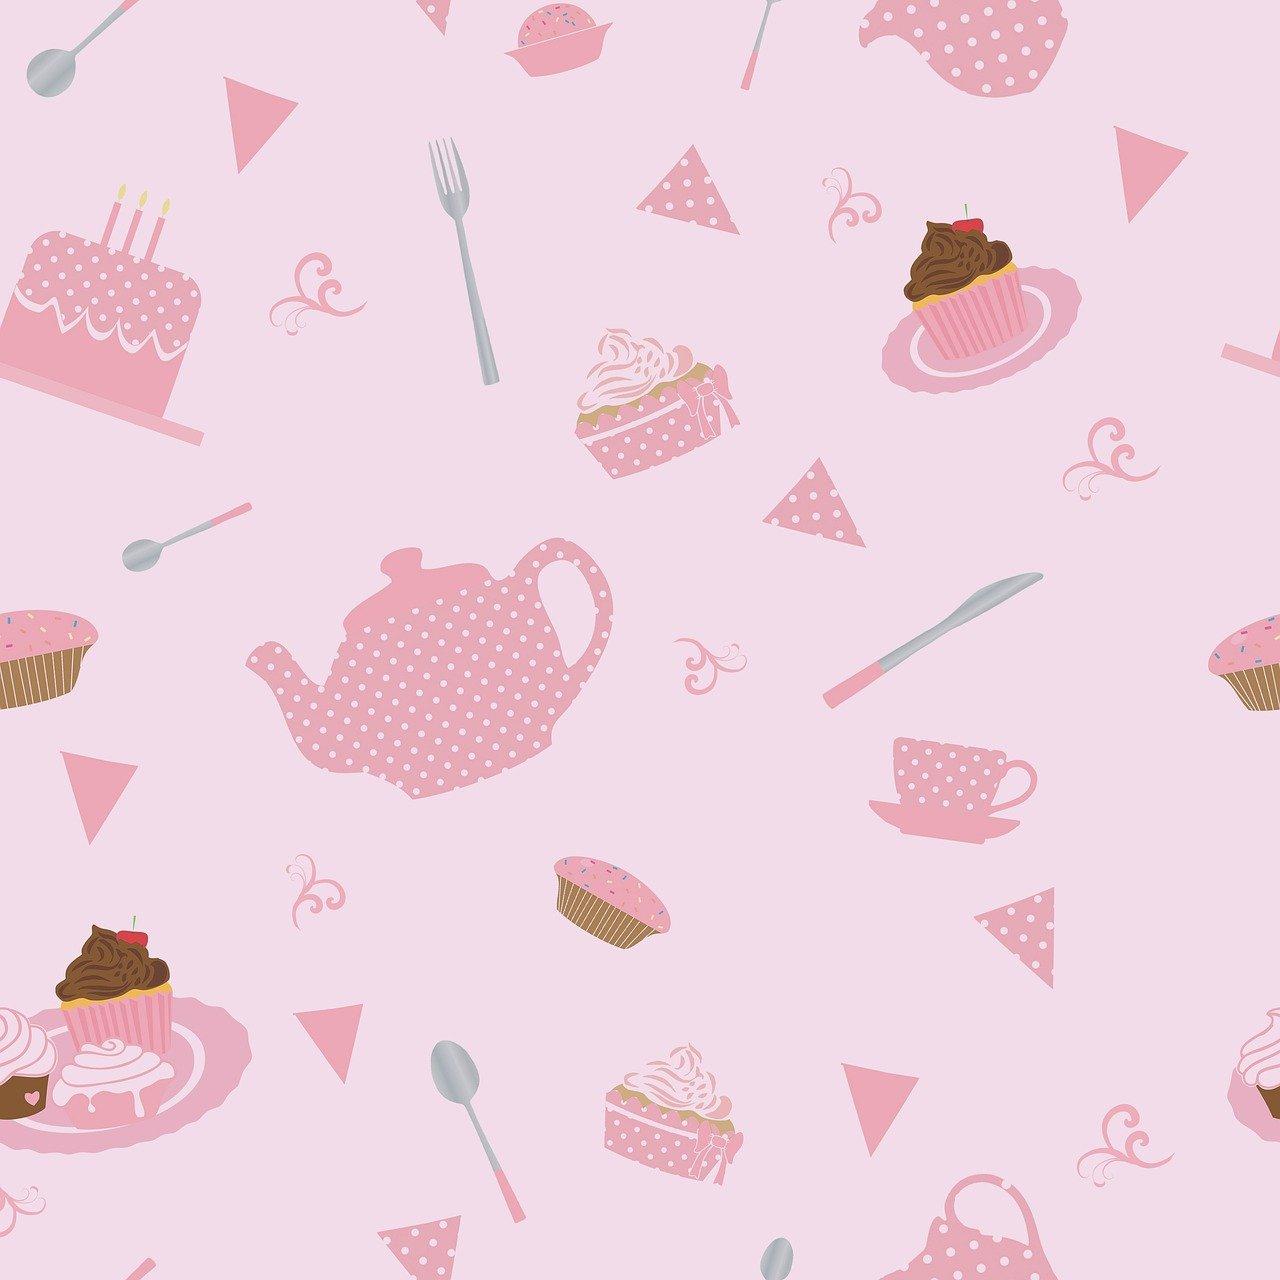knife: (821, 561, 1053, 708)
